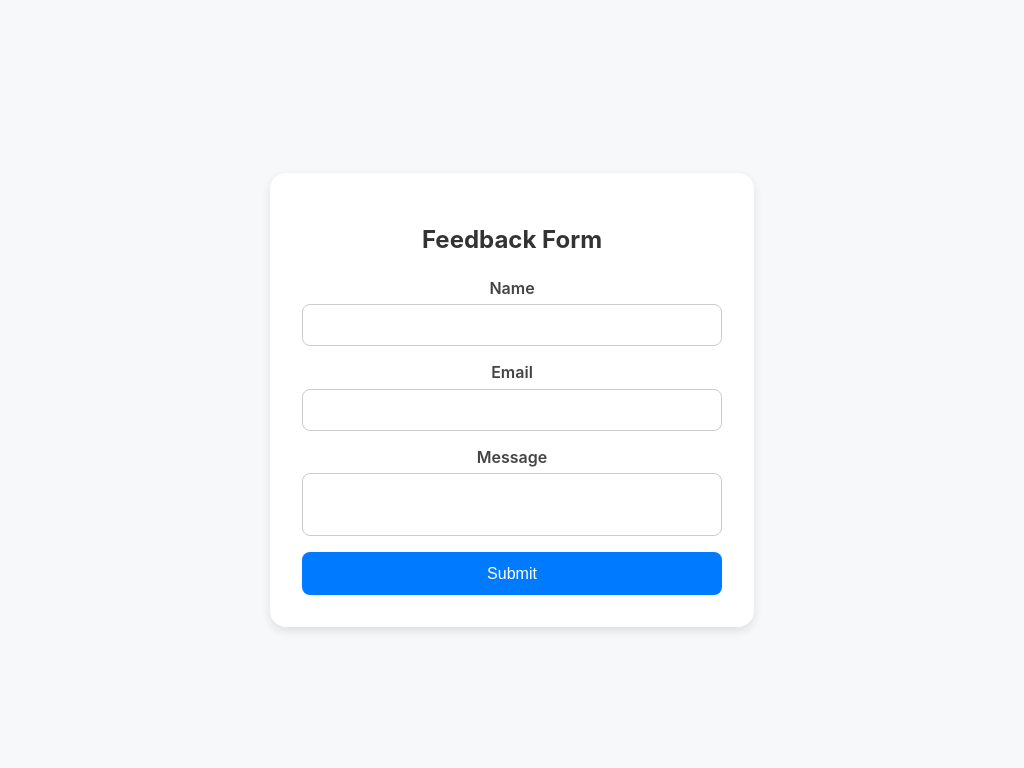
Test: StatusModal E2E Tests › shows error modal when backend fails
In the field named "name": (512, 325) 302,304 -> 722,346, type "Vishal"
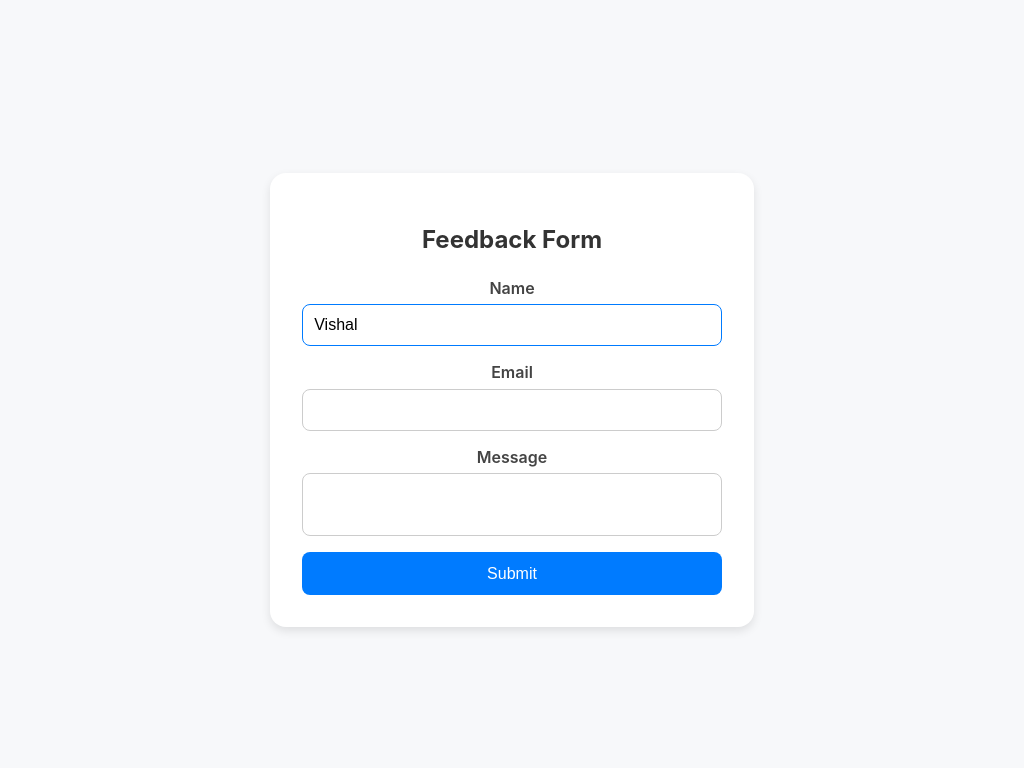
In the field named "email": (512, 410) 302,389 -> 722,431, type "vishal@example.com"
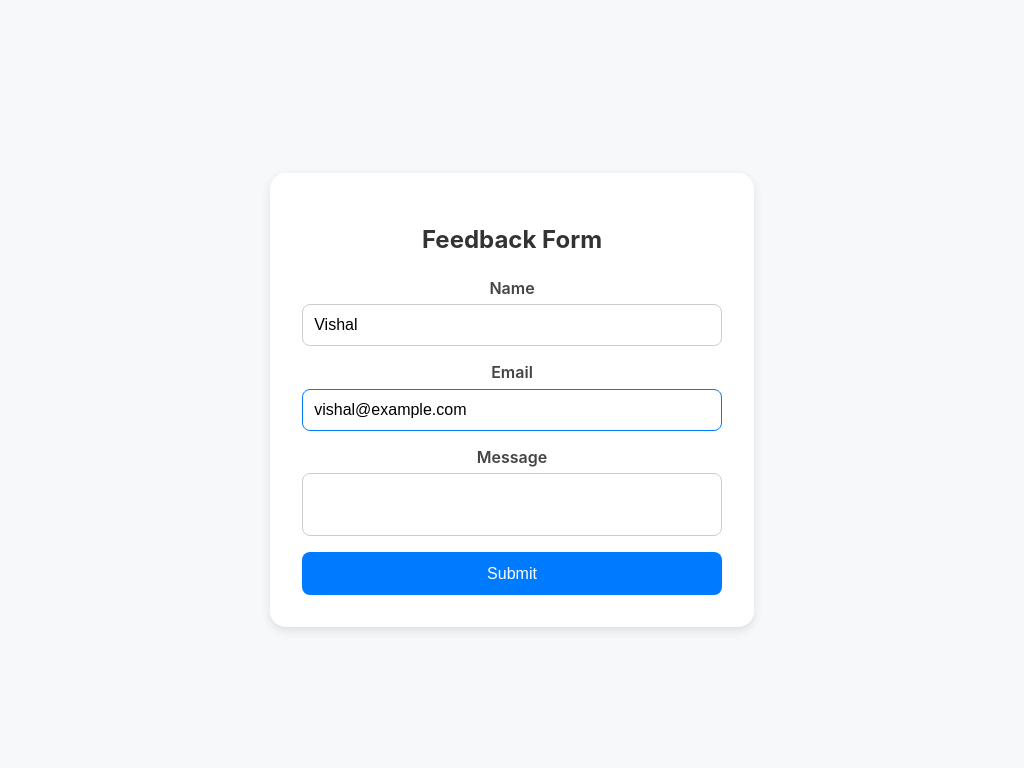
In the text box named "message": (512, 504) 302,473 -> 722,535, type "Great app!"
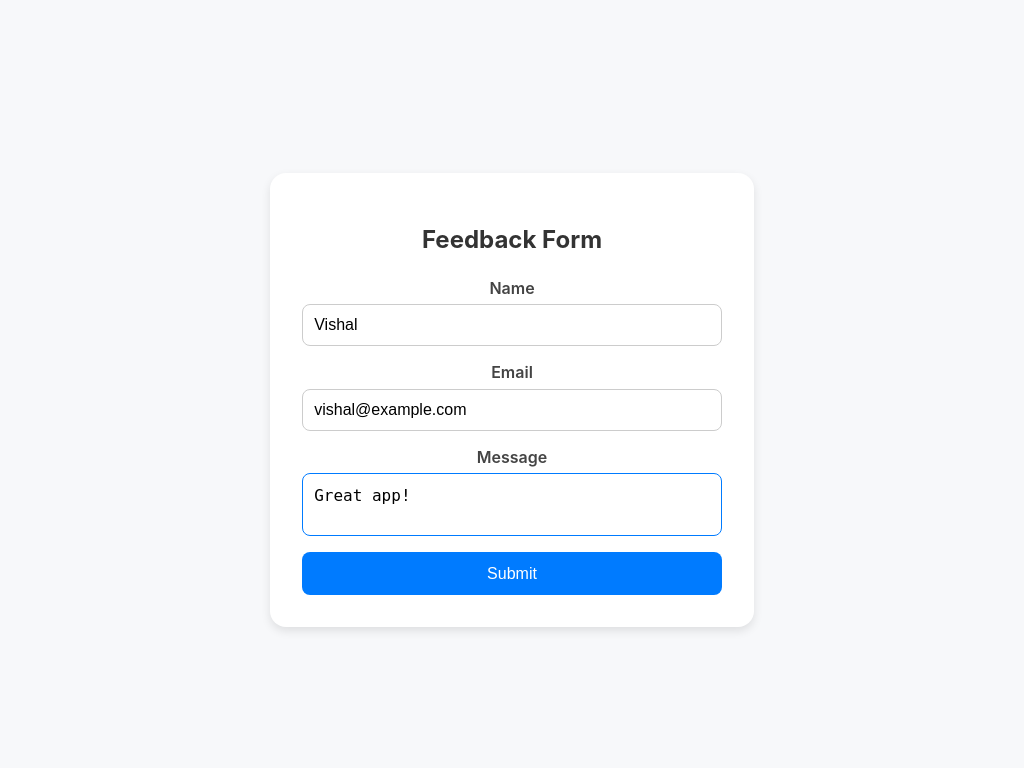
Click the submit button: click(512, 574) 302,552 -> 722,596
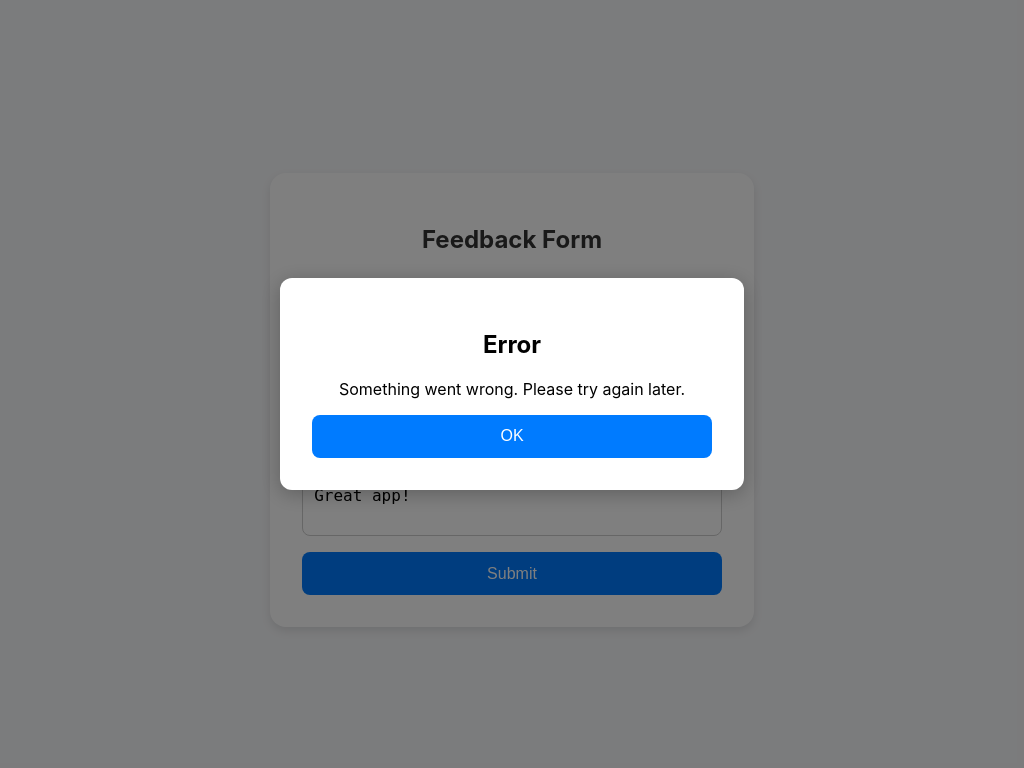
Now the dialog with class "modal-overlay" is shown
Now the heading with id "modal-title" reads "Error", box 483,330 -> 541,359
Now the text with id "modal-desc" reads "Something went wrong. Please try again later.", box 312,379 -> 712,399
# Close modal
Click the button with class "ok-button": click(512, 437) 312,415 -> 712,459
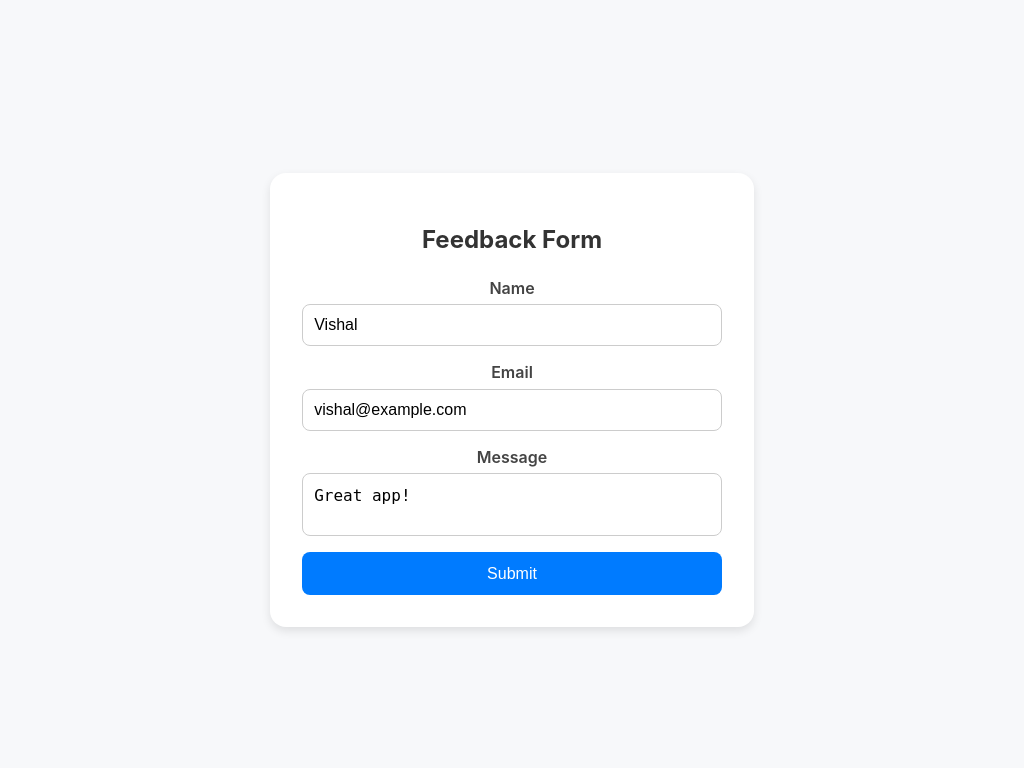
Now the dialog with class "modal-overlay" is gone
